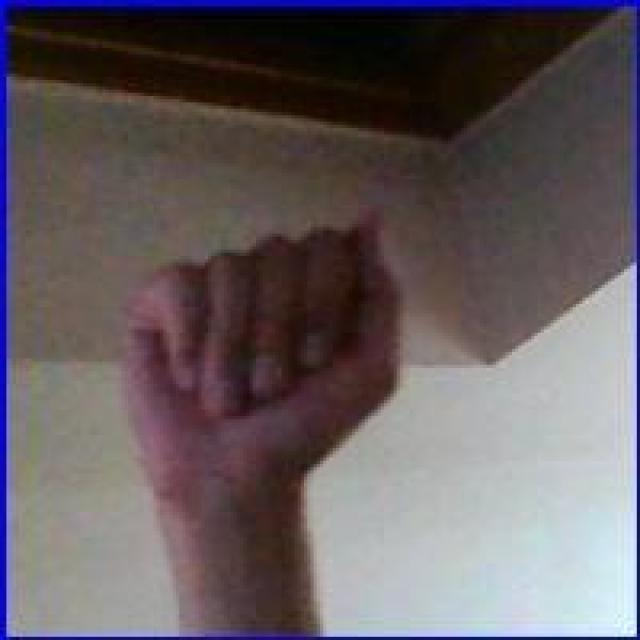A: (126, 195, 412, 477)
